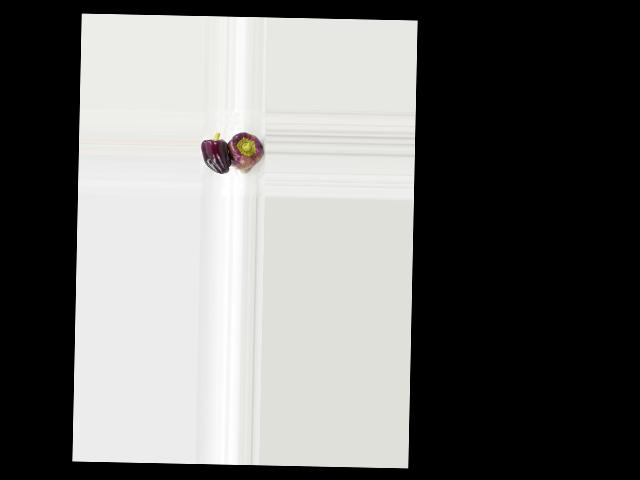bell_pepper: (226, 123, 265, 181)
